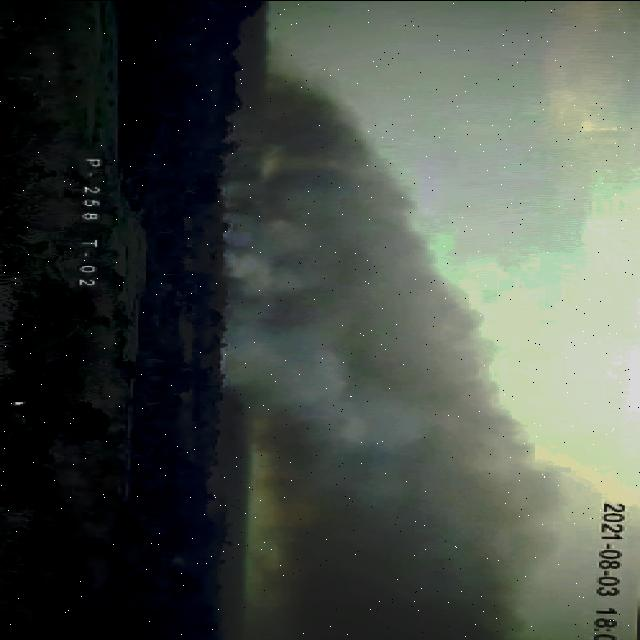asap: (211, 63, 582, 640)
